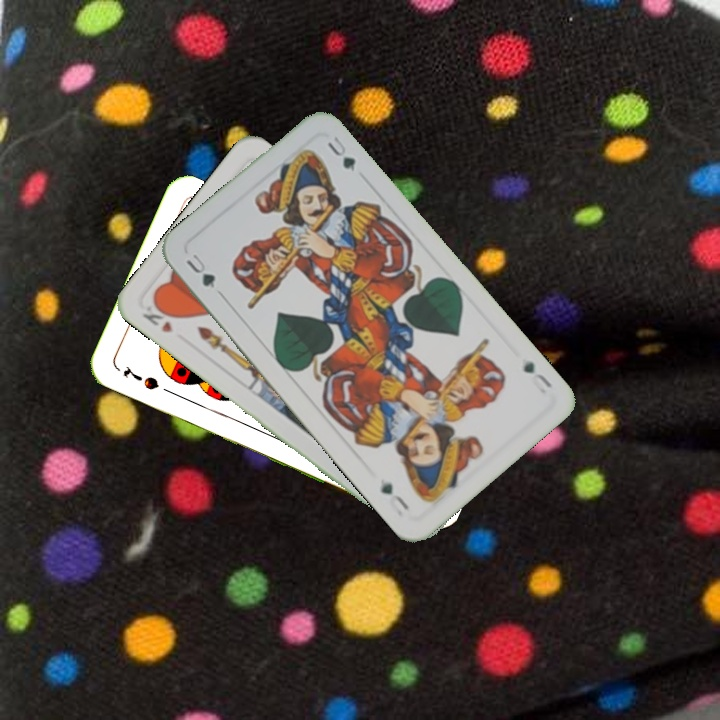GU: (182, 249, 225, 298), (519, 357, 555, 391)
HK: (138, 298, 179, 335)
S7: (119, 361, 162, 393)
